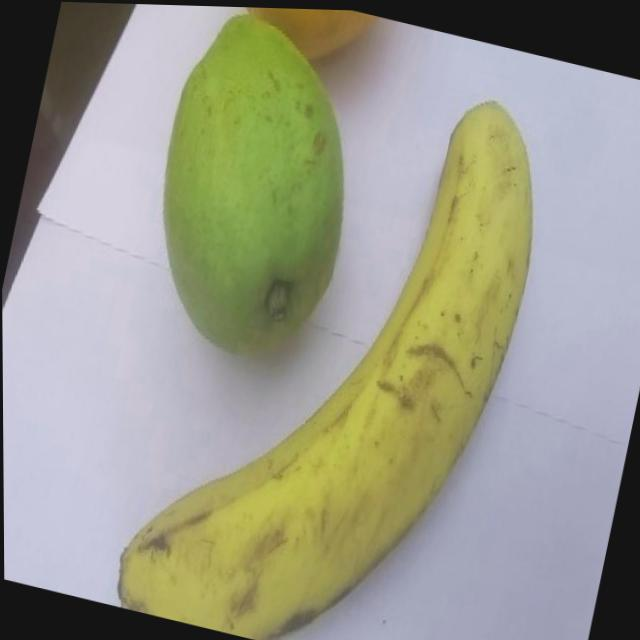Banana: (104, 31, 563, 640)
Orange: (223, 5, 376, 74)
